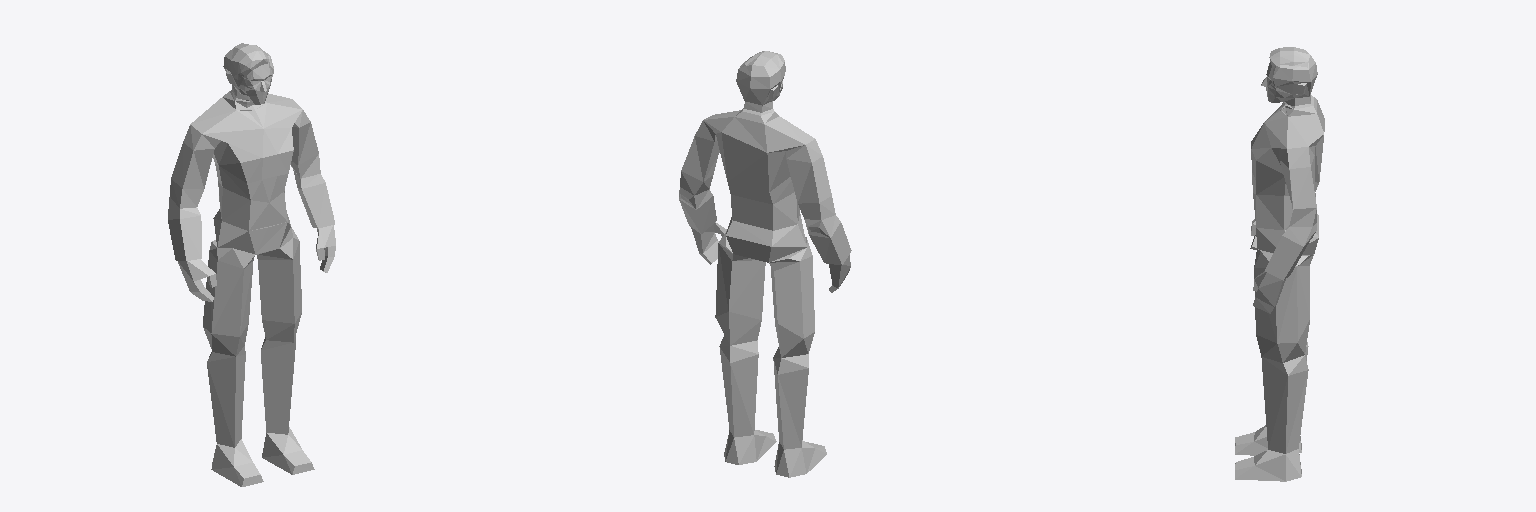
The model's file is Manuel27.obj.
The picture shows the model from 3 angles: view 1: azimuth 30°, elevation 25°; view 2: azimuth 150°, elevation 25°; view 3: azimuth 270°, elevation 25°; orthographic projection.
Visible parts, largest first — view 1: leon; view 2: leon; view 3: leon.
Boxes of the visible parts, <box> form: leon: <box>168,43,335,486</box>; leon: <box>679,51,851,477</box>; leon: <box>1235,47,1324,481</box>.
Bounding box in the file's own units: 4.79 × 12.18 × 2.43.